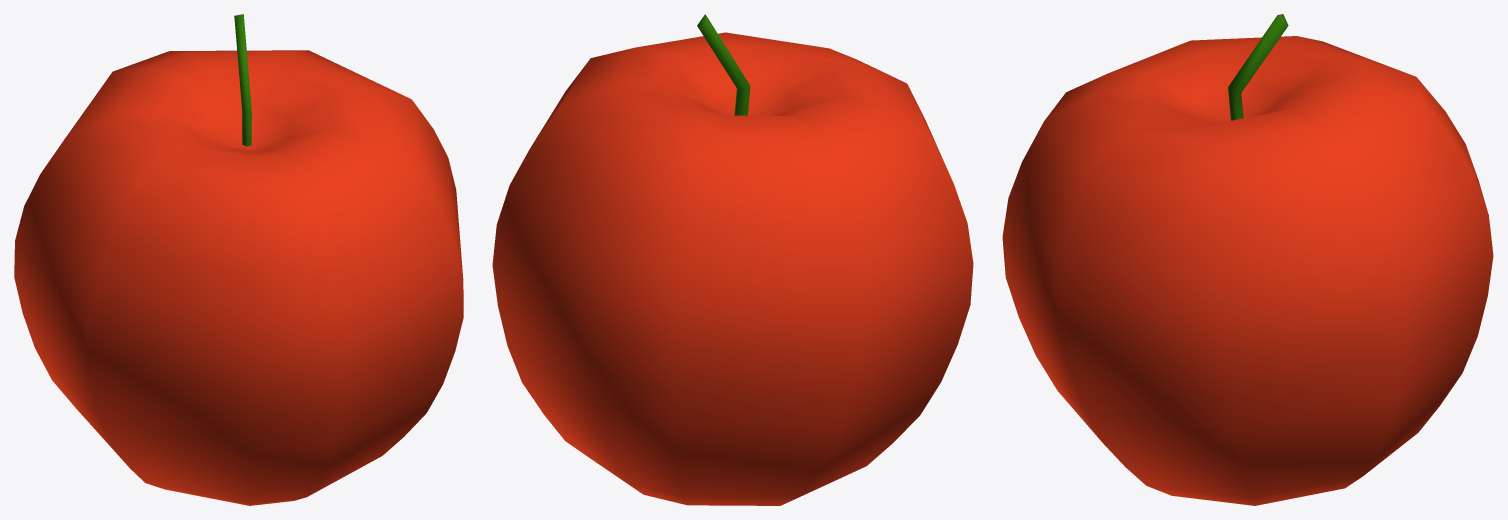
Rendered from DiningRoom_FruitBowl_Apple_low.fbx.
3 views of the same model, side by side, from view 1: azimuth 30°, elevation 25°; view 2: azimuth 150°, elevation 25°; view 3: azimuth 270°, elevation 25° (orthographic). The views are drawn at different scales.
Visible parts, largest first — view 1: AppleStem.003; view 2: AppleStem.003; view 3: AppleStem.003.
Part boxes in pixels (bbox=[...]): AppleStem.003: bbox=[14, 14, 463, 505]; AppleStem.003: bbox=[492, 14, 973, 505]; AppleStem.003: bbox=[1002, 14, 1493, 505].
Bounding box in the file's own units: 14.72 × 15.89 × 15.25.
